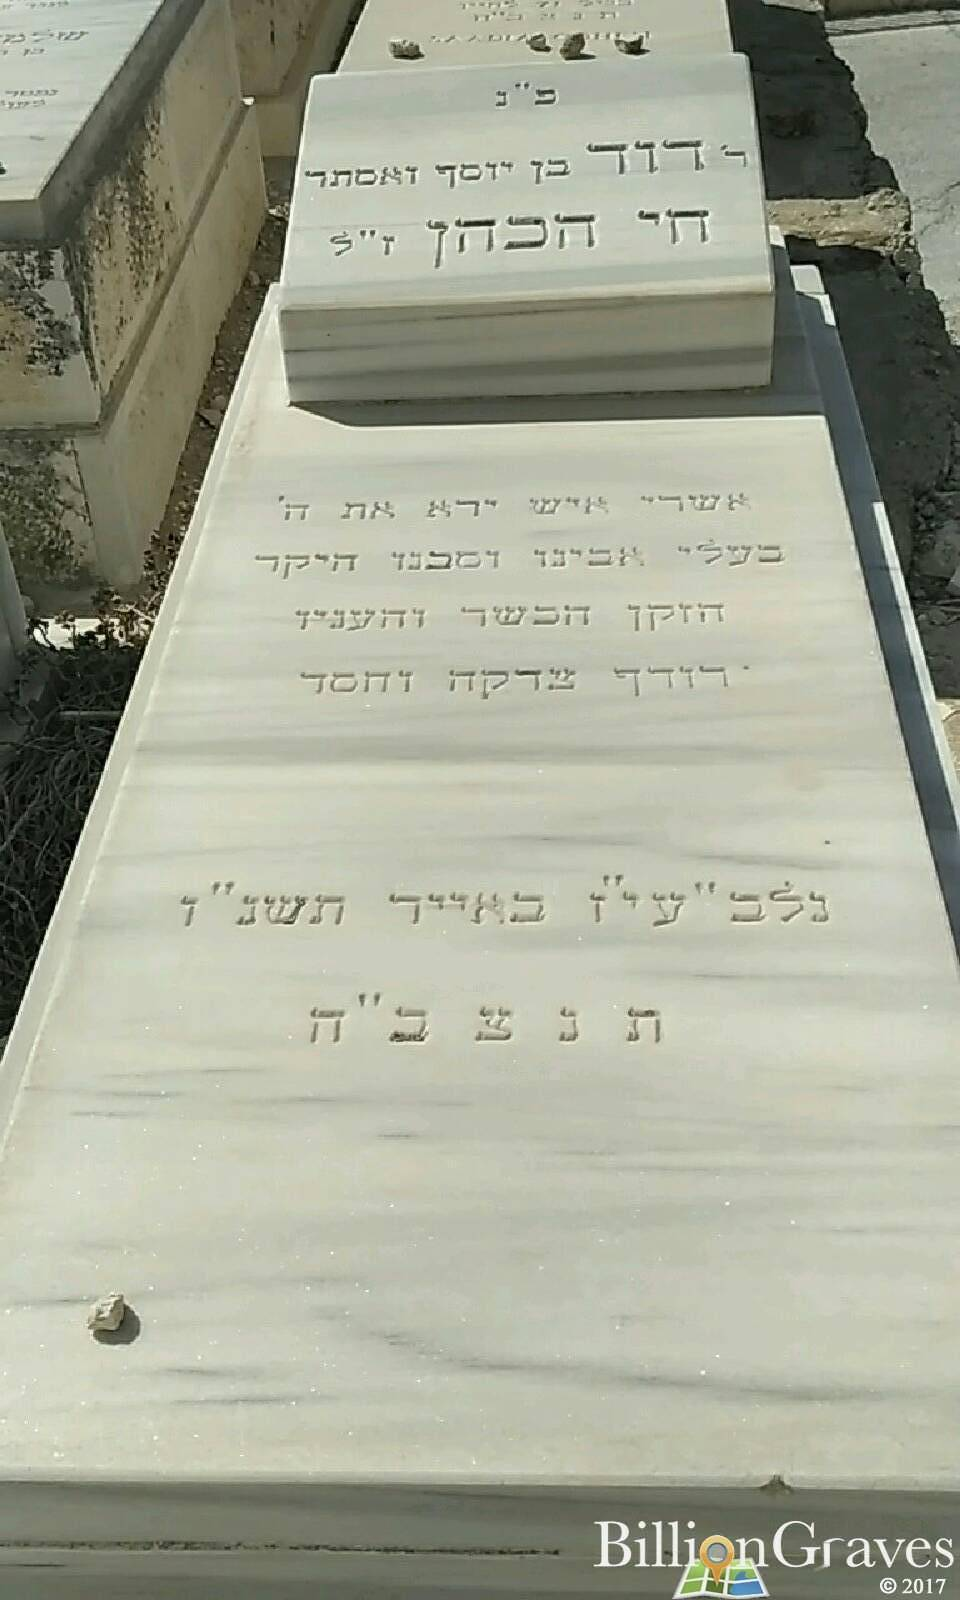vault: (0, 64, 958, 1590)
